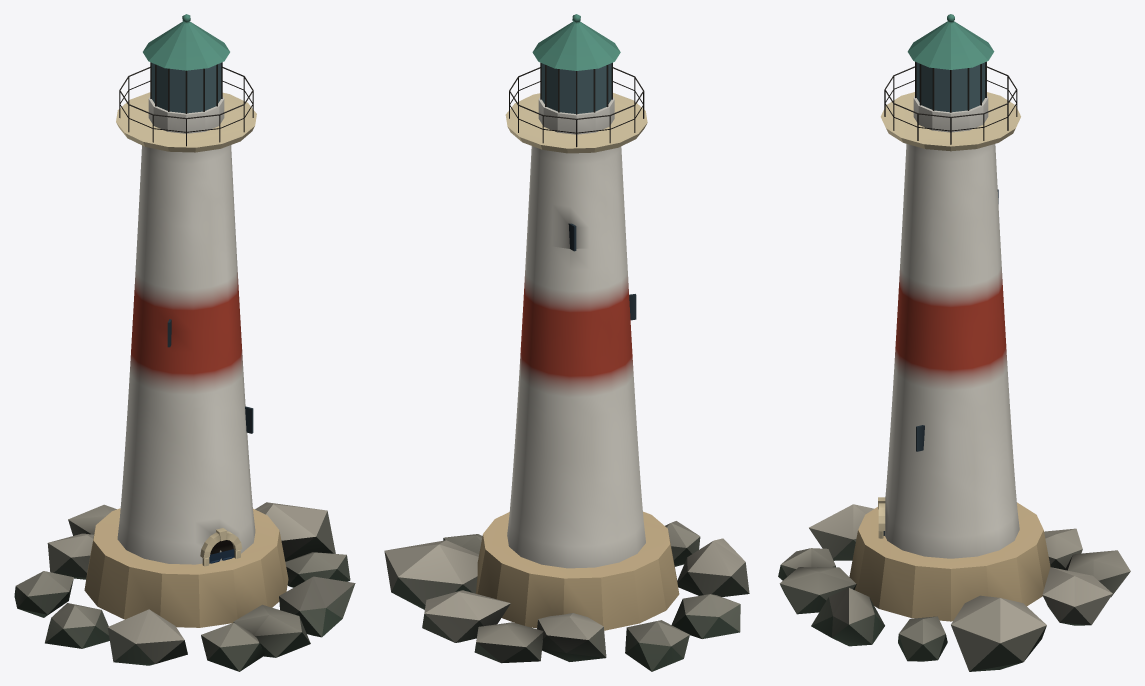
The model's file is lighthouse.glb.
3 views of the same model, side by side, from view 1: azimuth 30°, elevation 25°; view 2: azimuth 150°, elevation 25°; view 3: azimuth 270°, elevation 25° (orthographic).
Parts seen in each view (by area): view 1: lighthouse_mesh; view 2: lighthouse_mesh; view 3: lighthouse_mesh.
Part boxes in pixels (x1=…): lighthouse_mesh: x1=14, y1=14, x2=355, y2=671; lighthouse_mesh: x1=384, y1=14, x2=749, y2=671; lighthouse_mesh: x1=778, y1=14, x2=1130, y2=671.
Bounding box in the file's own units: 12.14 × 22.19 × 11.79.
